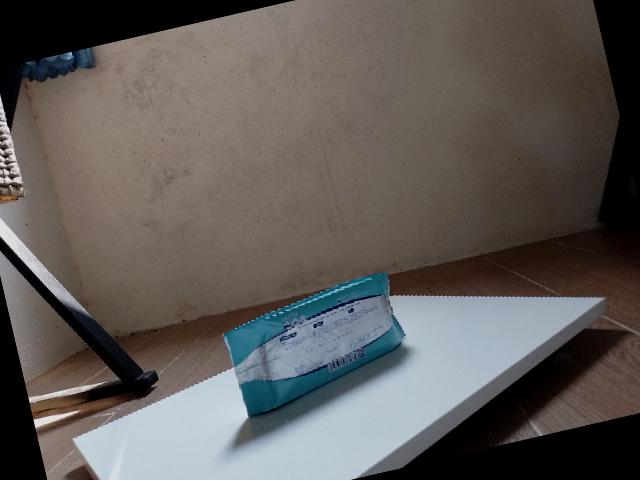Let-green_alcohol_wipes: (222, 271, 406, 417)
